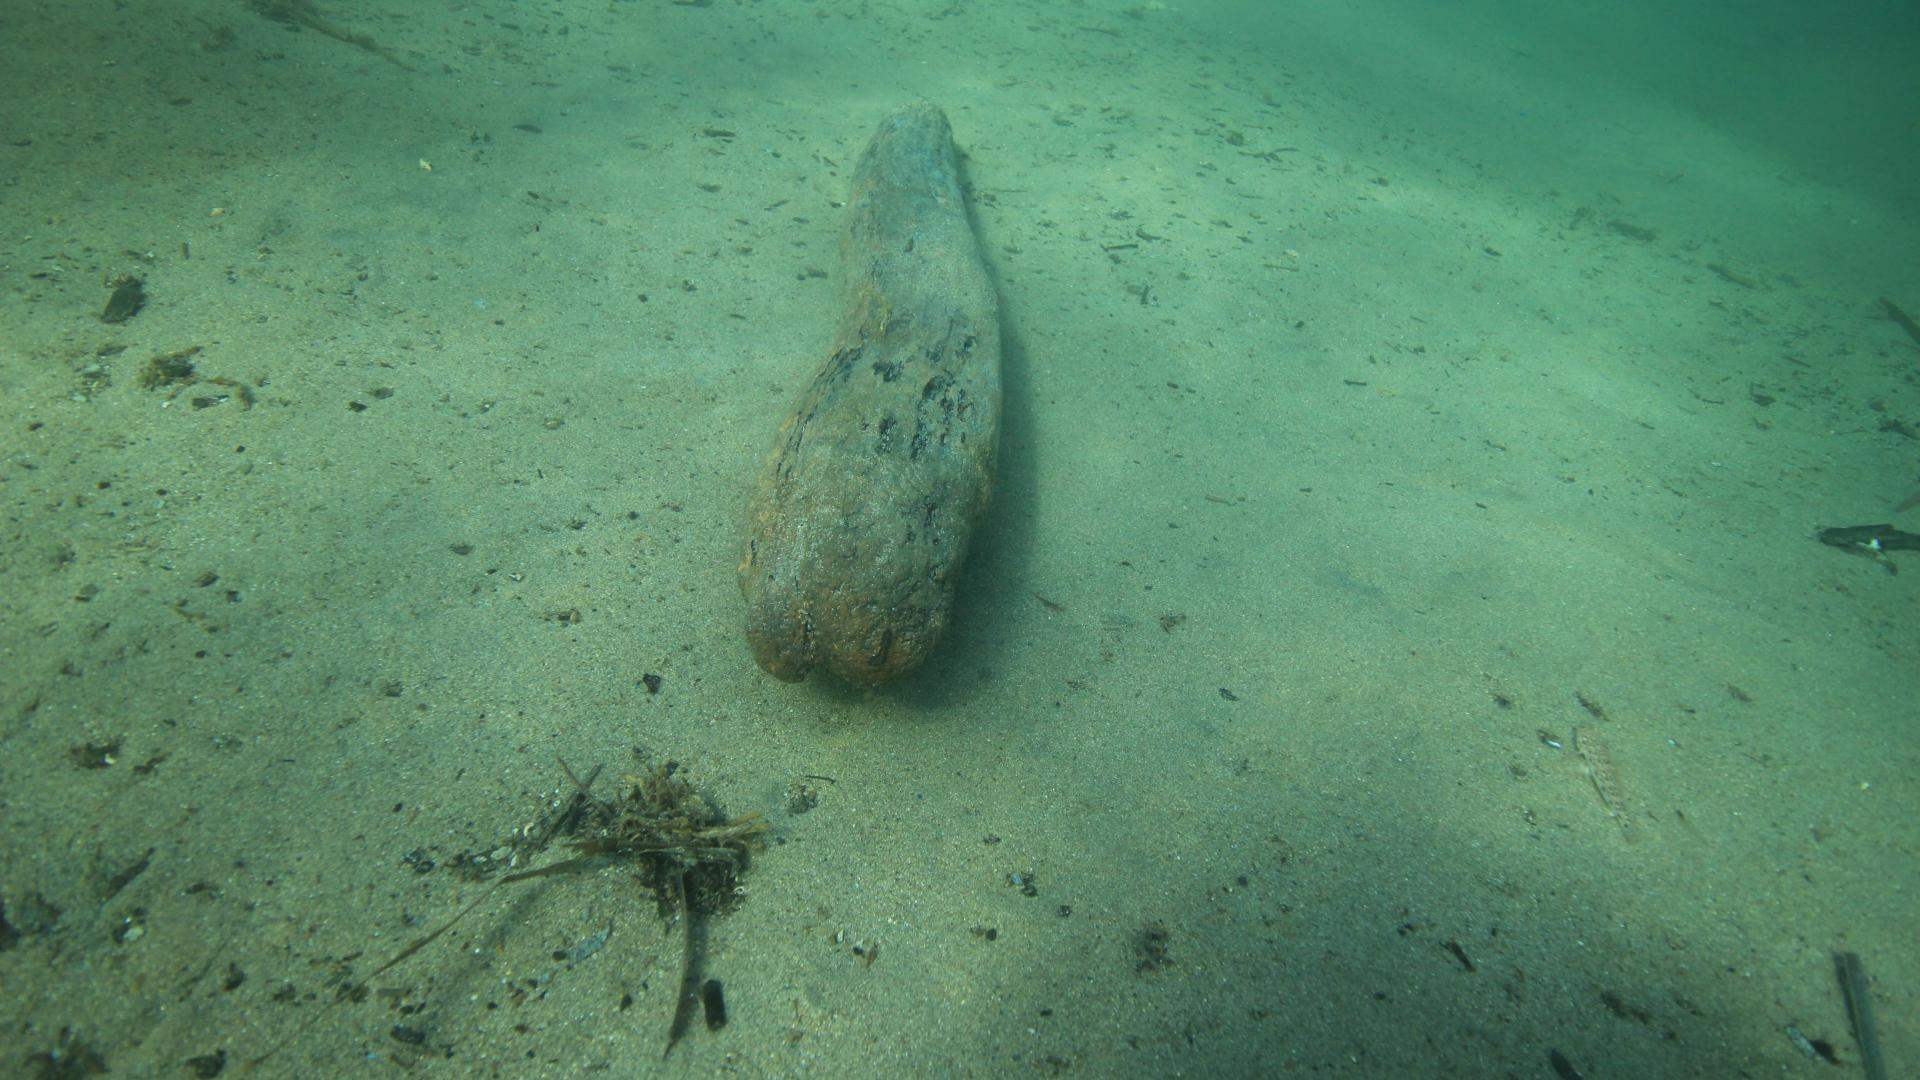wood: (736, 96, 1004, 687)
